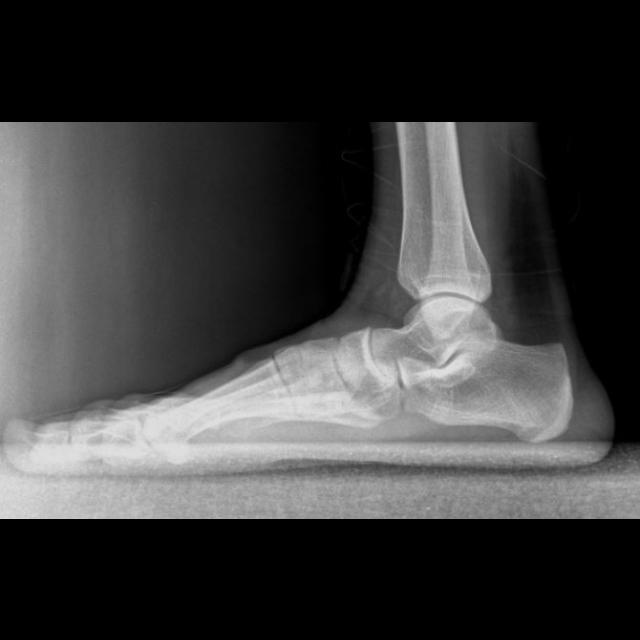a: (401, 338, 572, 439)
b: (338, 323, 393, 396)
c: (145, 351, 296, 444)
